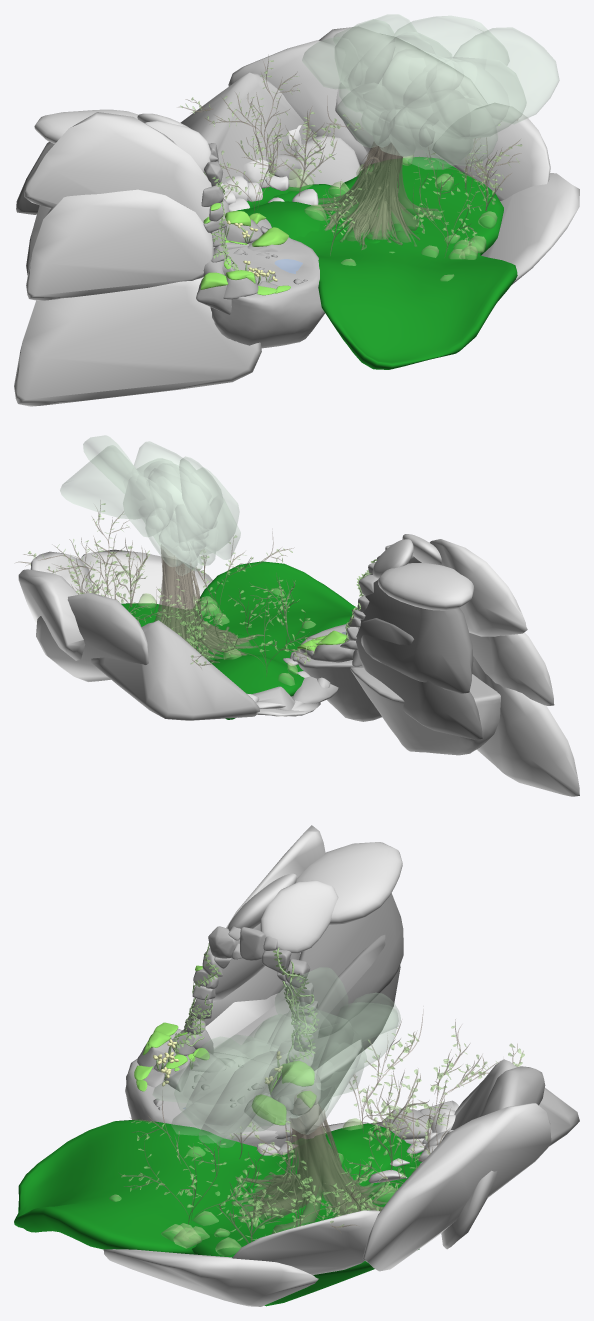
File: GameEnv_viz.glb
3 renders of one model, top to bottom at view 1: azimuth 30°, elevation 25°; view 2: azimuth 150°, elevation 25°; view 3: azimuth 270°, elevation 25°, orthographic. The views are drawn at different scales.
Visible parts, largest first — view 1: GrassMap, Retopo_s.088, Retopo_s.031, Retopo_s.004, Retopo_s.086, Retopo_s.0030, Retopo_s.0283, Retopo_s.006, Retopo_s.005, Retopo_s.002, Retopo_s.0137, Retopo_s.001 (+27 smaller); view 2: GrassMap, Retopo_s.005, Retopo_s.080, Retopo_s.088, Retopo_s.001, Retopo_s.002, Retopo_s.072, s.0696, Retopo_s.029, Retopo_s.086, Retopo_s.0186, Retopo_s.031 (+24 smaller); view 3: GrassMap, Retopo_s.004, Retopo_s.0283, Retopo_s.0137, s.0696, Retopo_s.0186, Retopo_s.080, Retopo_s.001, Retopo_s.006, Retopo_Cube.002, Retopo_s.0026, Retopo_s.072 (+29 smaller).
Part boxes in pixels (box(x1,y1,x2,y2)): GrassMap: box(236, 184, 517, 369); Retopo_s.088: box(14, 277, 261, 406); Retopo_s.031: box(26, 189, 214, 300); Retopo_s.004: box(318, 26, 487, 161); Retopo_s.086: box(24, 112, 211, 222); Retopo_s.0030: box(341, 156, 503, 255); Retopo_s.0283: box(210, 239, 324, 348); Retopo_s.006: box(431, 102, 550, 200); Retopo_s.005: box(180, 72, 315, 187); Retopo_s.002: box(228, 40, 375, 168); Retopo_s.0137: box(314, 142, 441, 249); Retopo_s.001: box(481, 173, 579, 284); GrassMap: box(164, 561, 356, 693); Retopo_s.005: box(91, 620, 259, 720); Retopo_s.080: box(358, 580, 473, 693); Retopo_s.088: box(472, 656, 579, 796); Retopo_s.001: box(79, 549, 212, 608); Retopo_s.002: box(36, 593, 148, 681); Retopo_s.072: box(356, 618, 482, 739); s.0696: box(16, 500, 322, 676); Retopo_s.029: box(350, 667, 500, 755); Retopo_s.086: box(429, 539, 527, 636); Retopo_s.0186: box(60, 445, 153, 519); Retopo_s.031: box(469, 632, 554, 705); GrassMap: box(14, 1119, 422, 1254); Retopo_s.004: box(362, 1103, 551, 1271); Retopo_s.0283: box(125, 1052, 319, 1146); Retopo_s.0137: box(227, 1087, 389, 1233); s.0696: box(119, 1009, 523, 1243); Retopo_s.0186: box(254, 1022, 362, 1134); Retopo_s.080: box(299, 893, 403, 1038); Retopo_s.001: box(103, 1249, 318, 1306); Retopo_s.006: box(232, 1210, 380, 1274); Retopo_Cube.002: box(296, 842, 402, 925); Retopo_s.0026: box(298, 1123, 405, 1190); Retopo_s.072: box(311, 935, 400, 1070).
Size of the model in its own units: 57.93 by 28.17 by 42.98.
